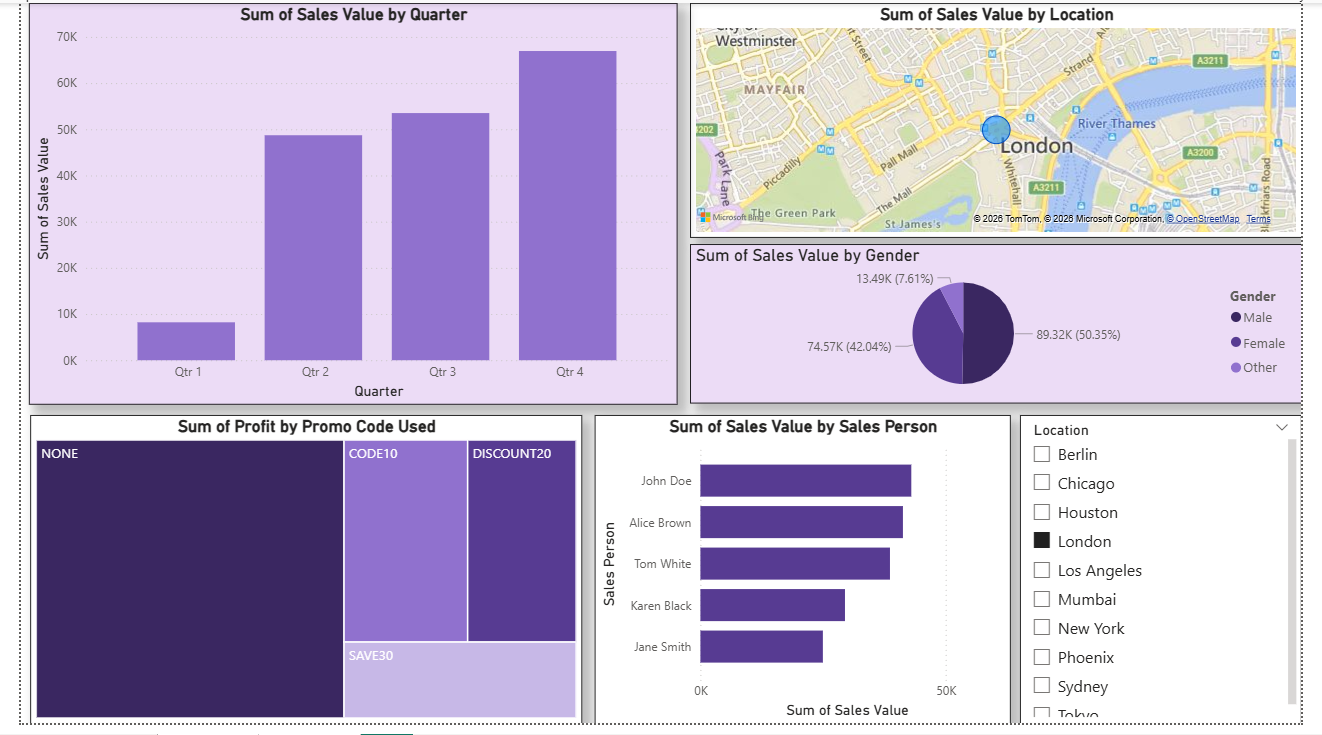

The page's visual inventory and layout, read from the dashboard file:
{"tool":"powerbi","page":{"name":"Page 3","canvas":[1280,720],"ordinal":1},"visuals":[{"type":"map","fields":{"Category":["Skewed_Customer_Sales_Data (1).Location"],"Size":["Skewed_Customer_Sales_Data (1).Sales Value"]},"box":[668.3,0,612,234.6],"z":2000},{"type":"columnChart","fields":{"Category":["Skewed_Customer_Sales_Data (1).Date Joined.Variation.Date Hierarchy.Year","Skewed_Customer_Sales_Data (1).Date Joined.Variation.Date Hierarchy.Quarter","Skewed_Customer_Sales_Data (1).Date Joined.Variation.Date Hierarchy.Month","Skewed_Customer_Sales_Data (1).Date Joined.Variation.Date Hierarchy.Day"],"Y":["Skewed_Customer_Sales_Data (1).Sales Value"]},"box":[8.3,0,648.3,401.7],"z":3000},{"type":"pieChart","fields":{"Category":["Skewed_Customer_Sales_Data (1).Gender"],"Y":["Skewed_Customer_Sales_Data (1).Sales Value"]},"box":[668.3,241.5,612,159.2],"z":4000},{"type":"treemap","fields":{"Values":["Skewed_Customer_Sales_Data (1).Profit"],"Group":["Skewed_Customer_Sales_Data (1).Promo Code Used"]},"box":[9.6,411.7,551.6,308.7],"z":5000},{"type":"clusteredBarChart","fields":{"Category":["Skewed_Customer_Sales_Data (1).Sales Person"],"Y":["Skewed_Customer_Sales_Data (1).Sales Value"]},"box":[573.6,411.7,415.8,308.7],"z":6000},{"type":"slicer","fields":{"Values":["Skewed_Customer_Sales_Data (1).Location"]},"box":[998.3,411.7,281.7,308.3],"z":7000}]}

Visuals, with their boxes in screenshot pixels (x1, y1, x2, y2), scaled from the page's 1280x720 canvas onto the 1322x735 screenshot:
map - Skewed_Customer_Sales_Data (1).Location x Skewed_Customer_Sales_Data (1).Sales Value: region(690, 0, 1321, 239)
columnChart - Skewed_Customer_Sales_Data (1).Date Joined.Variation.Date Hierarchy.Year x Skewed_Customer_Sales_Data (1).Date Joined.Variation.Date Hierarchy.Quarter: region(9, 0, 678, 410)
pieChart - Skewed_Customer_Sales_Data (1).Gender x Skewed_Customer_Sales_Data (1).Sales Value: region(690, 247, 1321, 409)
treemap - Skewed_Customer_Sales_Data (1).Profit x Skewed_Customer_Sales_Data (1).Promo Code Used: region(10, 420, 580, 734)
clusteredBarChart - Skewed_Customer_Sales_Data (1).Sales Person x Skewed_Customer_Sales_Data (1).Sales Value: region(592, 420, 1022, 734)
slicer - Skewed_Customer_Sales_Data (1).Location: region(1031, 420, 1321, 734)
